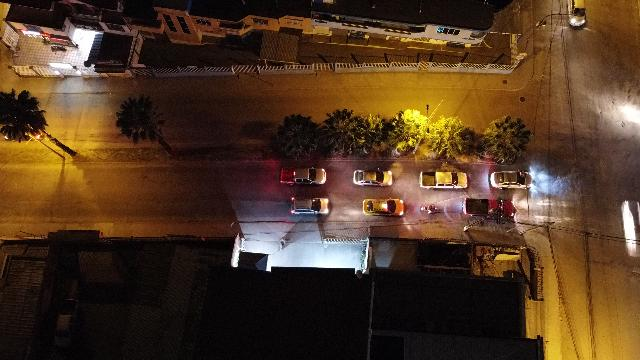Vehiculo: (462, 198, 516, 218), (280, 166, 326, 185), (420, 171, 468, 189), (490, 170, 532, 190), (362, 198, 403, 216), (290, 197, 330, 214), (353, 170, 392, 187), (568, 0, 586, 28)
